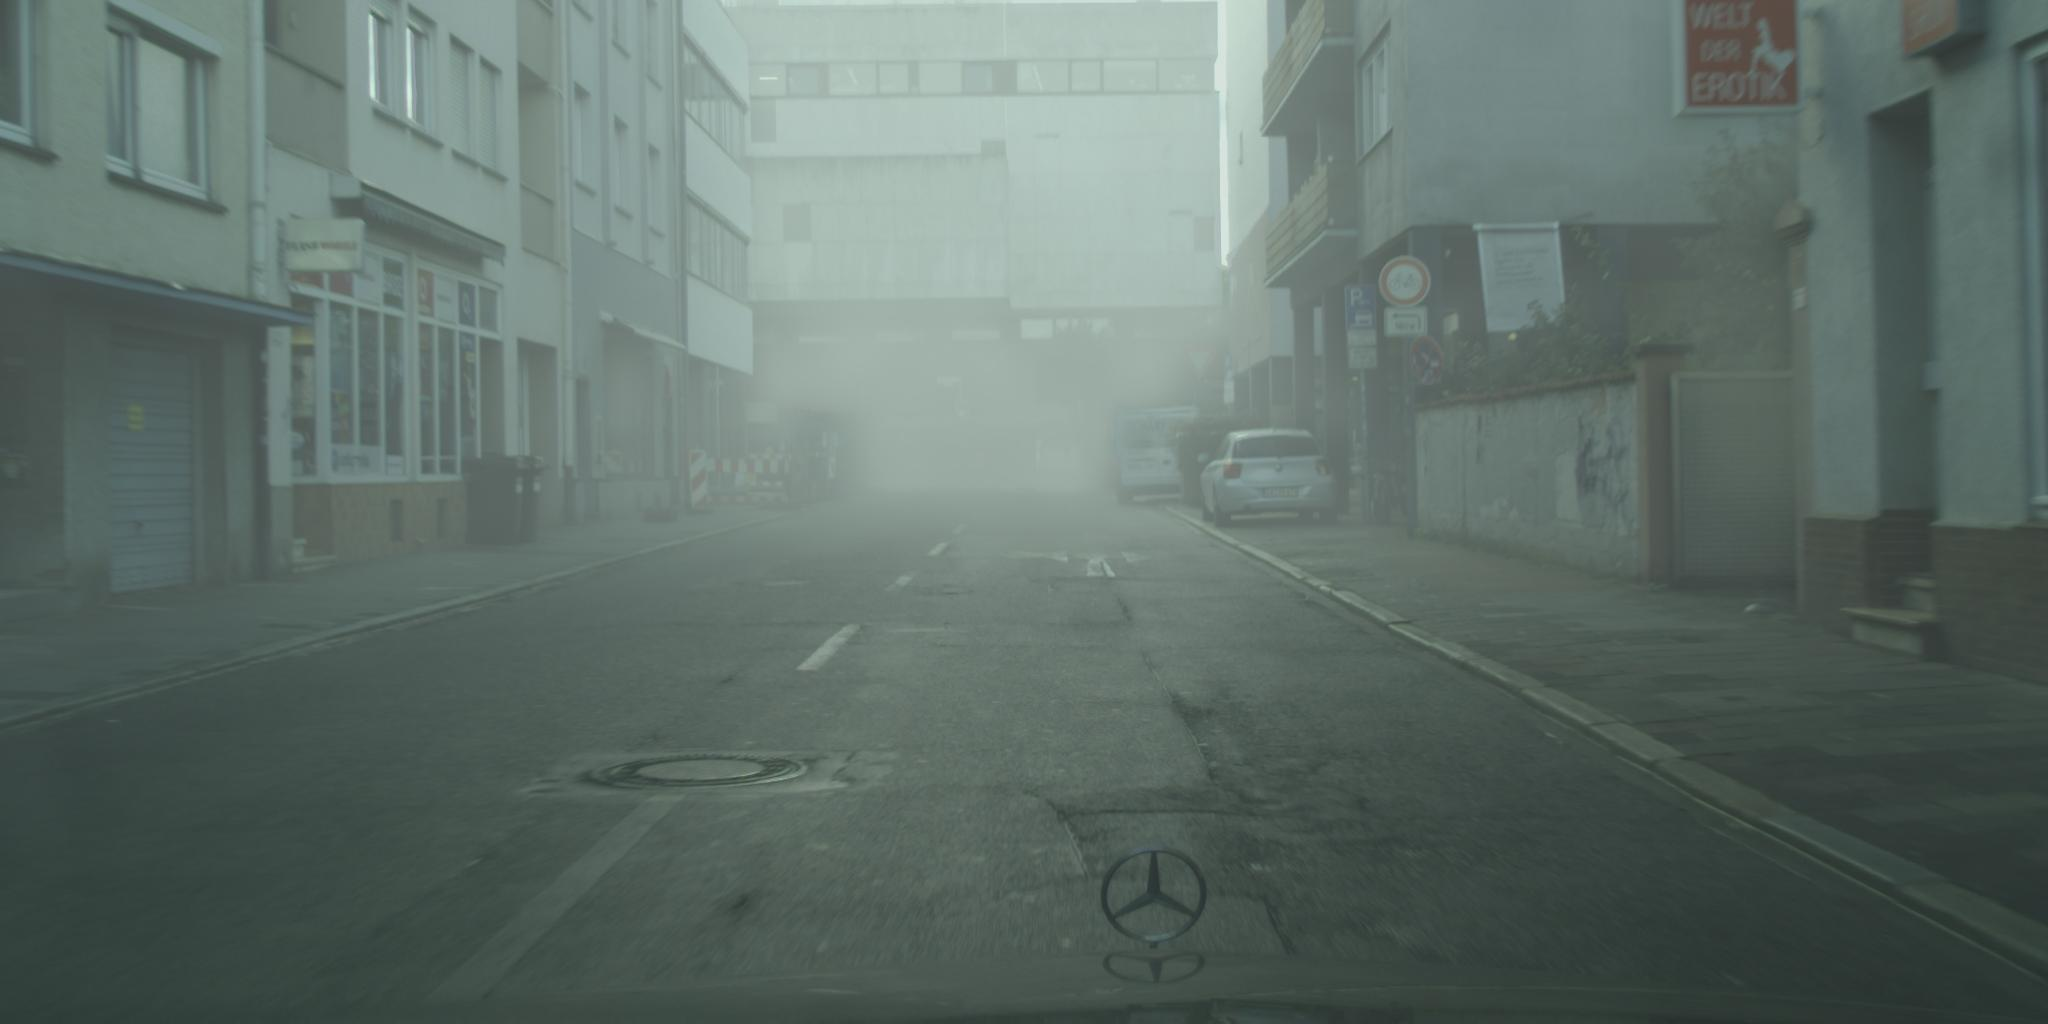bicycle: (1362, 451, 1415, 526)
car: (1196, 428, 1340, 528), (1114, 406, 1202, 504)
